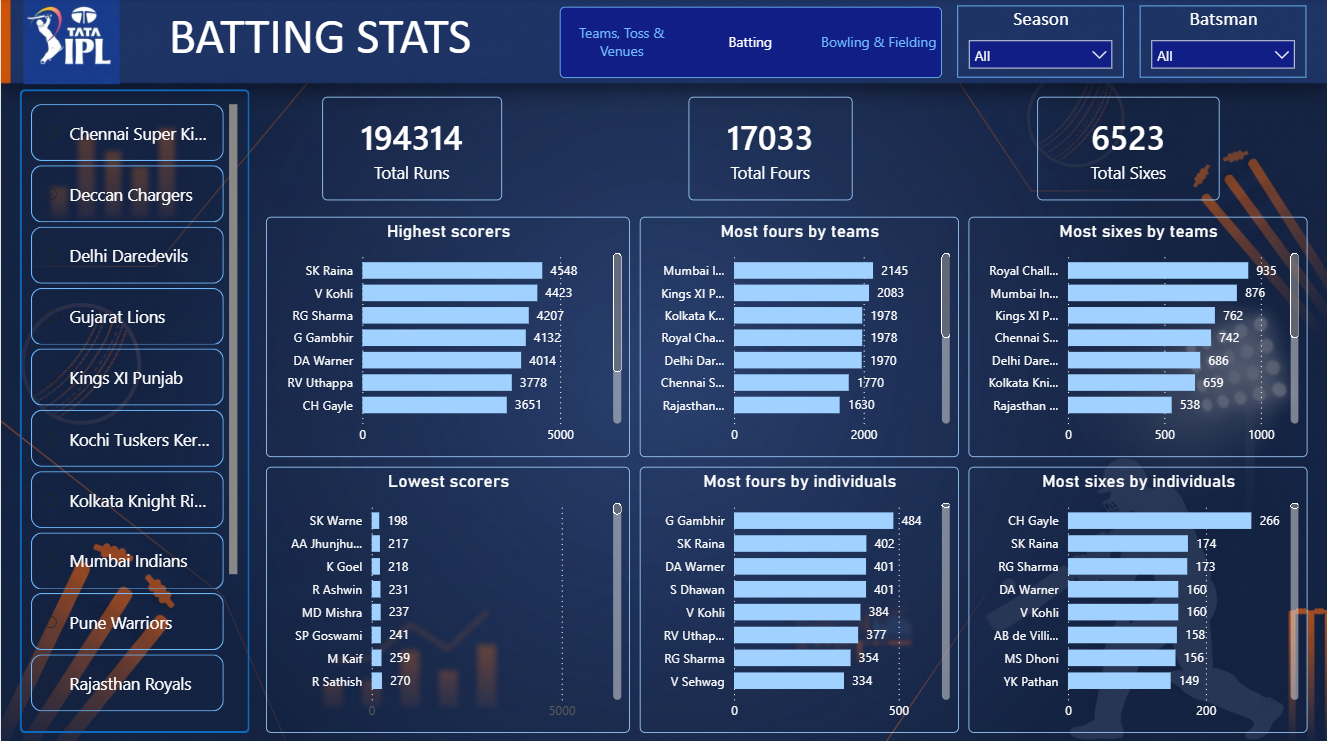

This screenshot's page, from the dashboard's own definition file:
{"tool":"powerbi","page":{"name":"Batting","canvas":[1280,720],"ordinal":1},"visuals":[{"type":"clusteredBarChart","title":"Highest scorers","fields":{"Category":["deliveries.batsman"],"Y":["Sum(deliveries.batsman_runs)"]},"box":[255.8,211.1,351.1,231.6],"z":0},{"type":"cardVisual","fields":{"Data":["Table.Total Runs"]},"box":[310.1,95.7,173.7,100.1],"z":1000},{"type":"shape","box":[18.1,88.1,222,621.3],"z":2000},{"type":"advancedSlicerVisual","title":"Teams","fields":{"Values":["Teams.team"]},"box":[24.1,97.7,209.9,602],"z":3000},{"type":"image","box":[0,0,136.3,83.2],"z":4000},{"type":"cardVisual","fields":{"Data":["Table.Total Fours"]},"box":[663.5,95.3,173.7,100.1],"z":5000},{"type":"cardVisual","fields":{"Data":["Table.Total Sixes"]},"box":[1000.1,95.7,176.1,100.1],"z":6000},{"type":"clusteredBarChart","title":"Lowest scorers","fields":{"Category":["deliveries.batsman"],"Y":["Table.Batsman Runs"]},"box":[255.8,452.4,351.1,257],"z":7000},{"type":"clusteredBarChart","title":"Most sixes by individuals","fields":{"Category":["deliveries.batsman"],"Y":["Table.Total Sixes"]},"box":[933.8,452.4,326.9,257],"z":8000},{"type":"clusteredBarChart","title":"Most sixes by teams","fields":{"Category":["deliveries.batting_team"],"Y":["Table.Total Sixes"]},"box":[933.8,211.1,326.9,231.6],"z":9000},{"type":"textbox","box":[156.8,2.4,305.2,80.8],"z":10000},{"type":"clusteredBarChart","title":"Most fours by teams","fields":{"Category":["deliveries.batting_team"],"Y":["Table.Total Fours"]},"box":[616.5,211.1,307.6,231.6],"z":11000},{"type":"clusteredBarChart","title":"Most fours by individuals","fields":{"Category":["deliveries.batsman"],"Y":["Table.Total Fours"]},"box":[616.5,452.4,307.6,257],"z":12000},{"type":"slicer","title":"Season","fields":{"Values":["matches.season"]},"box":[923.5,6.9,160.5,70],"z":13000},{"type":"slicer","title":"Batsman","fields":{"Values":["deliveries.batsman"]},"box":[1099.1,6.9,160.5,70],"z":14000},{"type":"pageNavigator","box":[539.3,8.4,369.2,68.8],"z":15000}]}

Visuals, with their boxes in screenshot pixels (x1, y1, x2, y2), scaled from the page's 1280x720 canvas onto the 1327x741 screenshot:
"Highest scorers" clusteredBarChart: box=[265, 217, 629, 456]
cardVisual - Table.Total Runs: box=[321, 98, 502, 202]
shape: box=[19, 91, 249, 730]
"Teams" advancedSlicerVisual: box=[25, 101, 243, 720]
image: box=[0, 0, 141, 86]
cardVisual - Table.Total Fours: box=[688, 98, 868, 201]
cardVisual - Table.Total Sixes: box=[1037, 98, 1219, 202]
"Lowest scorers" clusteredBarChart: box=[265, 466, 629, 730]
"Most sixes by individuals" clusteredBarChart: box=[968, 466, 1307, 730]
"Most sixes by teams" clusteredBarChart: box=[968, 217, 1307, 456]
textbox: box=[163, 2, 479, 86]
"Most fours by teams" clusteredBarChart: box=[639, 217, 958, 456]
"Most fours by individuals" clusteredBarChart: box=[639, 466, 958, 730]
"Season" slicer: box=[957, 7, 1124, 79]
"Batsman" slicer: box=[1139, 7, 1306, 79]
pageNavigator: box=[559, 9, 942, 79]
